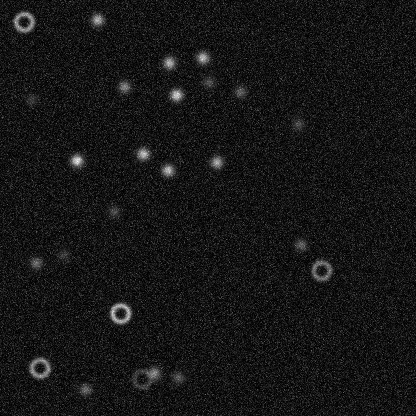Ring: (27, 355, 51, 379), (11, 9, 35, 33), (108, 301, 132, 325), (130, 366, 154, 390), (309, 258, 333, 282)
Spot: (159, 162, 175, 178), (54, 246, 70, 262), (208, 154, 224, 170), (134, 145, 150, 161), (146, 364, 162, 380), (292, 236, 308, 252), (23, 91, 39, 107), (28, 255, 44, 271), (106, 203, 122, 219), (170, 369, 186, 385), (77, 381, 93, 397), (232, 83, 248, 99), (161, 54, 177, 70), (289, 116, 305, 132), (200, 74, 216, 90), (89, 11, 105, 27), (68, 152, 84, 168), (168, 86, 184, 102), (116, 78, 132, 94), (194, 49, 210, 65)
